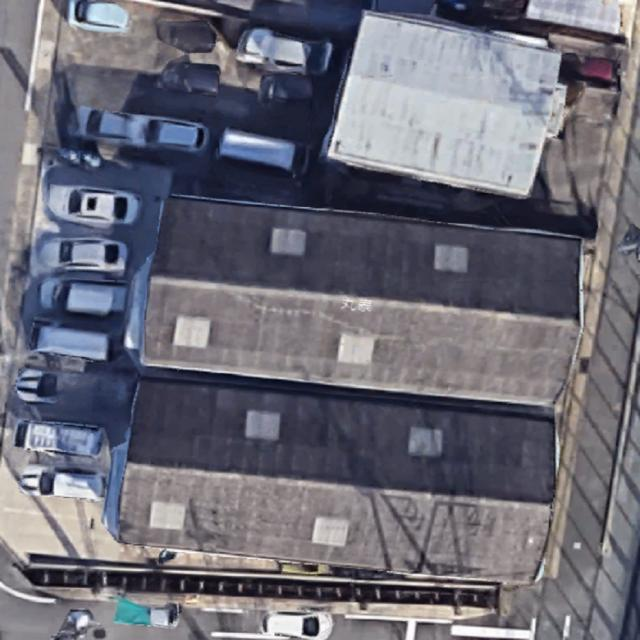Batiment: (119, 372, 554, 581), (144, 198, 581, 404), (328, 11, 561, 198)
